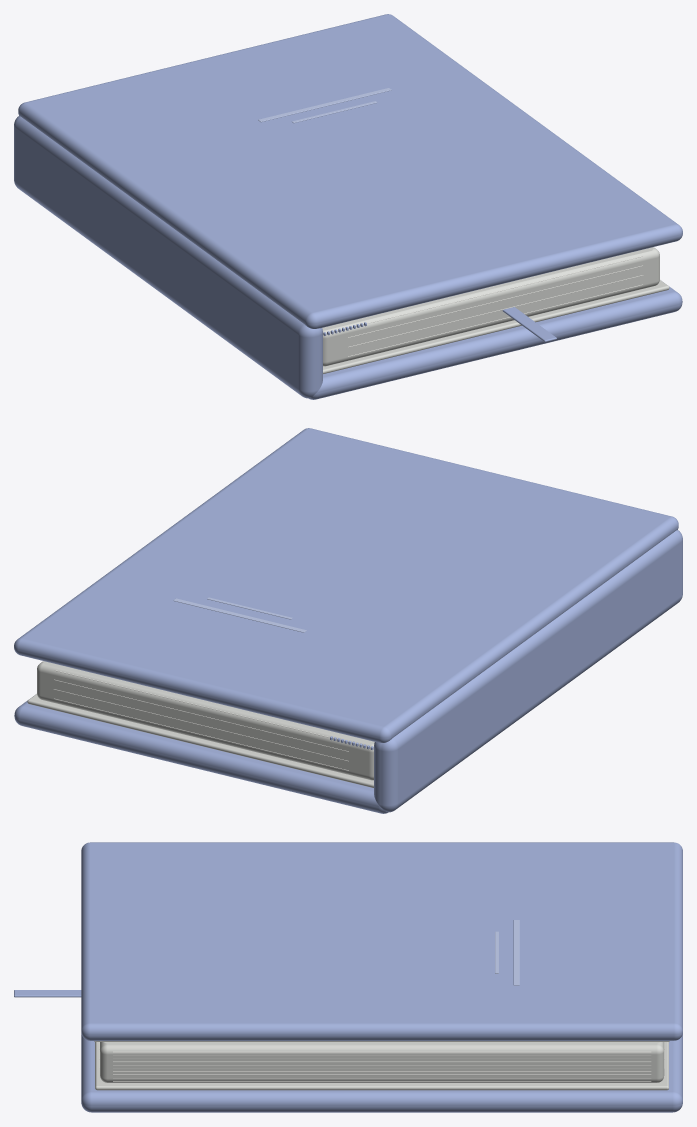
Rendered from pocket-notebook.glb.
The picture shows the model from 3 angles, top to bottom: view 1: azimuth 30°, elevation 25°; view 2: azimuth 150°, elevation 25°; view 3: azimuth 270°, elevation 25°; orthographic projection. The views are drawn at different scales.
Parts seen in each view (by area): view 1: hinged-cloth-front-cover, cloth-wrapped-flexible-spine, bound-lower-page-block, soft-rounded-bound-back-cover, pastedown-endpaper, attached-right-reading-page, bound-satin-bookmark; view 2: hinged-cloth-front-cover, cloth-wrapped-flexible-spine, bound-lower-page-block, soft-rounded-bound-back-cover, pastedown-endpaper, attached-right-reading-page; view 3: hinged-cloth-front-cover, bound-lower-page-block, soft-rounded-bound-back-cover, fine-fore-edge-page-line (×10), pastedown-endpaper, attached-right-reading-page, inside-front-cover-endpaper, bound-satin-bookmark, blind-debossed-cover-rule.
Boxes of the visible parts, x1,y1,x2,y2 form: hinged-cloth-front-cover: (18, 14, 682, 328); cloth-wrapped-flexible-spine: (14, 116, 322, 398); bound-lower-page-block: (322, 247, 659, 366); soft-rounded-bound-back-cover: (308, 286, 682, 399); pastedown-endpaper: (323, 280, 669, 373); attached-right-reading-page: (322, 247, 653, 330); bound-satin-bookmark: (502, 307, 556, 342); hinged-cloth-front-cover: (14, 428, 678, 742); cloth-wrapped-flexible-spine: (374, 530, 682, 812); bound-lower-page-block: (37, 661, 374, 780); soft-rounded-bound-back-cover: (14, 700, 388, 813); pastedown-endpaper: (27, 694, 373, 787); attached-right-reading-page: (43, 661, 374, 744); hinged-cloth-front-cover: (81, 842, 682, 1040); bound-lower-page-block: (100, 1042, 664, 1082); soft-rounded-bound-back-cover: (81, 1034, 682, 1112); fine-fore-edge-page-line (×10): (113, 1051, 651, 1081); pastedown-endpaper: (95, 1042, 668, 1090); attached-right-reading-page: (104, 1042, 660, 1043); inside-front-cover-endpaper: (94, 1041, 669, 1041); bound-satin-bookmark: (14, 990, 81, 997); blind-debossed-cover-rule: (513, 920, 519, 985).
Size of the model in its own units: 1.34 by 0.2964 by 2.
